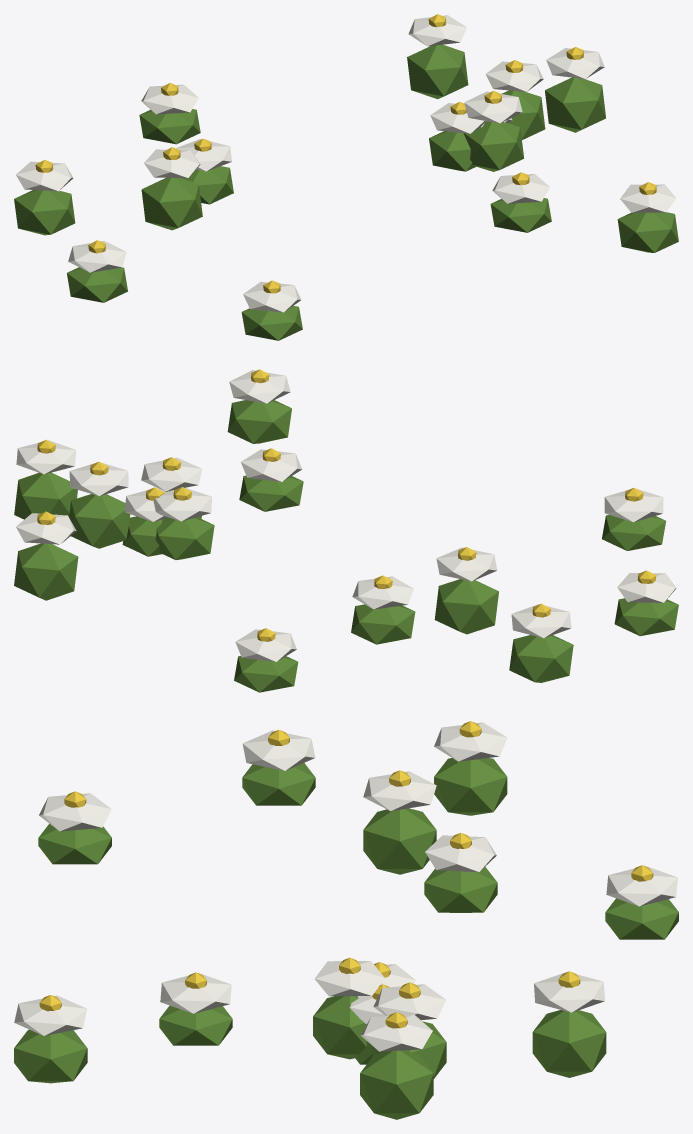
File: forest_flowers.glb
The picture shows the model from 3 angles, top to bottom: view 1: azimuth 30°, elevation 25°; view 2: azimuth 150°, elevation 25°; view 3: azimuth 270°, elevation 25°; orthographic projection. The views are drawn at different scales.
Parts seen in each view (by area): view 1: forest_flowers; view 2: forest_flowers; view 3: forest_flowers.
Part boxes in pixels (x1,y1,x2,y2): forest_flowers: (14,14,678,340); forest_flowers: (14,369,678,692); forest_flowers: (14,721,678,1119).
Bounding box in the file's own units: 1.63 × 0.2449 × 1.29.
